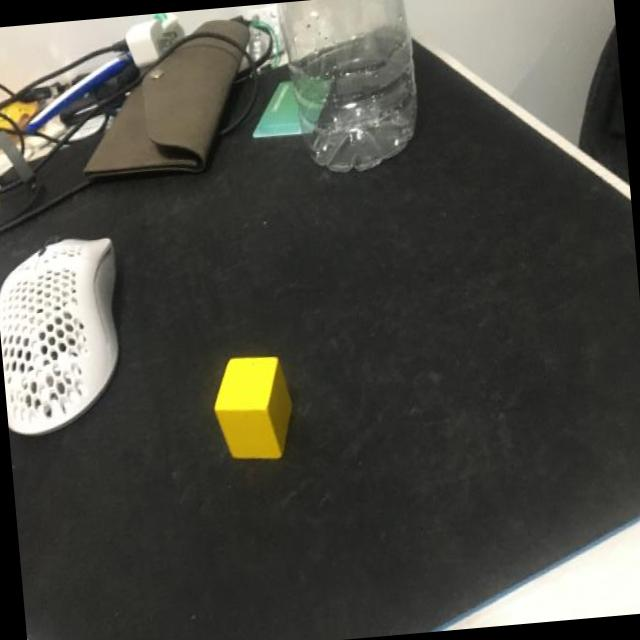yellow: (208, 354, 298, 464)
